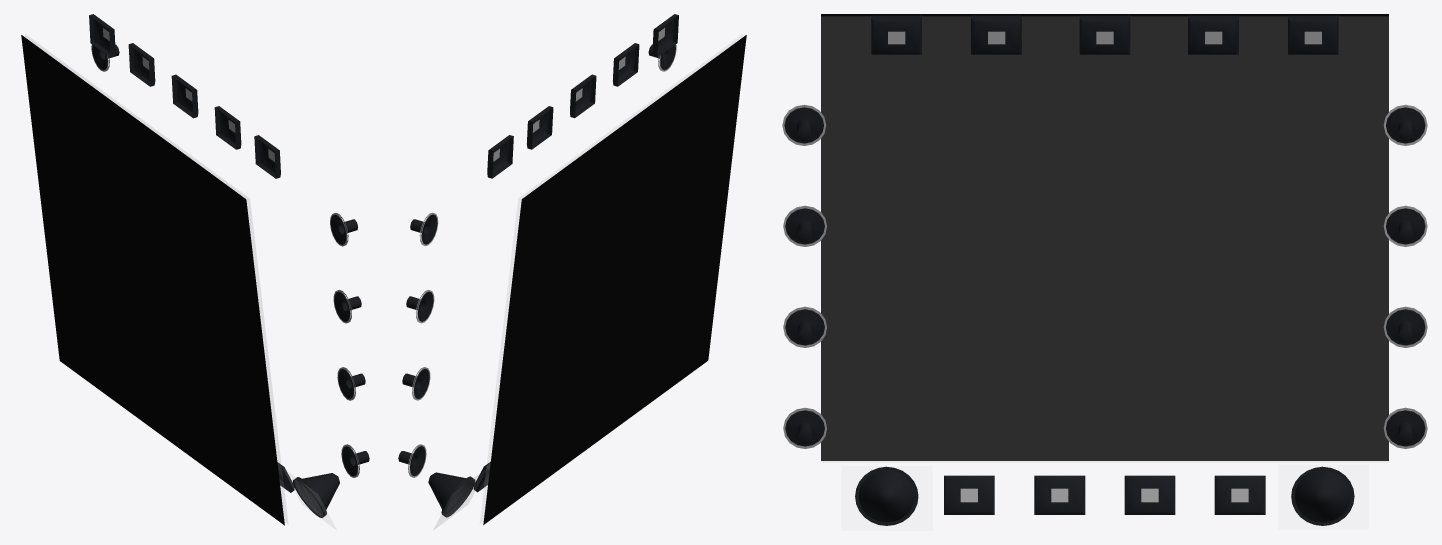
File: left_mfd.fbx
3 views of the same model, side by side, from view 1: azimuth 30°, elevation 25°; view 2: azimuth 150°, elevation 25°; view 3: azimuth 270°, elevation 25° (orthographic). The views are drawn at different scales.
Visible parts, largest first — view 1: left_mfd.black_screen, left_mfd.vitre, left_mfd.bl-knob, left_mfd.bt-h4, left_mfd.bt-h2, left_mfd.bt-h1, left_mfd.bt-h3, left_mfd.bt-h5, left_mfd.pot-l3, left_mfd.pot-l2, left_mfd.pot-l4, left_mfd.pot-l1; view 2: left_mfd.black_screen, left_mfd.vitre, left_mfd.br-knob, left_mfd.bt-h5, left_mfd.bt-h4, left_mfd.bt-h1, left_mfd.bt-h2, left_mfd.bt-h3, left_mfd.pot-r2, left_mfd.pot-r4, left_mfd.pot-r3, left_mfd.pot-r1; view 3: left_mfd.black_screen, left_mfd.vitre, left_mfd.light, left_mfd.bl-knob, left_mfd.br-knob, left_mfd.bt-h3, left_mfd.bt-b2, left_mfd.bt-b4, left_mfd.bt-b3, left_mfd.bt-h1, left_mfd.bt-h2, left_mfd.bt-h4 (+14 smaller).
Part boxes in pixels (box(x1,y1,x2,y2)): left_mfd.black_screen: box(21, 35, 284, 525); left_mfd.vitre: box(25, 34, 287, 523); left_mfd.bl-knob: box(293, 473, 339, 517); left_mfd.bt-h4: box(128, 43, 155, 86); left_mfd.bt-h2: box(214, 106, 241, 149); left_mfd.bt-h1: box(254, 135, 280, 178); left_mfd.bt-h3: box(171, 74, 198, 118); left_mfd.bt-h5: box(89, 14, 115, 57); left_mfd.pot-l3: box(337, 367, 365, 400); left_mfd.pot-l2: box(333, 290, 361, 323); left_mfd.pot-l4: box(341, 444, 369, 477); left_mfd.pot-l1: box(330, 213, 357, 246); left_mfd.black_screen: box(483, 35, 746, 524); left_mfd.vitre: box(480, 34, 742, 523); left_mfd.br-knob: box(428, 472, 475, 517); left_mfd.bt-h5: box(487, 135, 513, 178); left_mfd.bt-h4: box(526, 106, 553, 149); left_mfd.bt-h1: box(652, 14, 678, 57); left_mfd.bt-h2: box(613, 43, 639, 86); left_mfd.bt-h3: box(570, 74, 596, 118); left_mfd.pot-r2: box(406, 290, 434, 323); left_mfd.pot-r4: box(398, 444, 426, 477); left_mfd.pot-r3: box(402, 367, 430, 400); left_mfd.pot-r1: box(410, 213, 438, 246); left_mfd.black_screen: box(821, 14, 1388, 460); left_mfd.vitre: box(821, 17, 1388, 462); left_mfd.light: box(782, 32, 1427, 502); left_mfd.bl-knob: box(855, 466, 918, 525); left_mfd.br-knob: box(1291, 466, 1354, 525); left_mfd.bt-h3: box(1079, 15, 1130, 54); left_mfd.bt-b2: box(1034, 475, 1085, 514); left_mfd.bt-b4: box(1214, 475, 1265, 514); left_mfd.bt-b3: box(1124, 475, 1175, 514); left_mfd.bt-h1: box(871, 15, 921, 54); left_mfd.bt-h2: box(971, 15, 1021, 54); left_mfd.bt-h4: box(1188, 15, 1238, 54).
Bounding box in the file's own units: 5.09 × 17.9 × 14.81.
